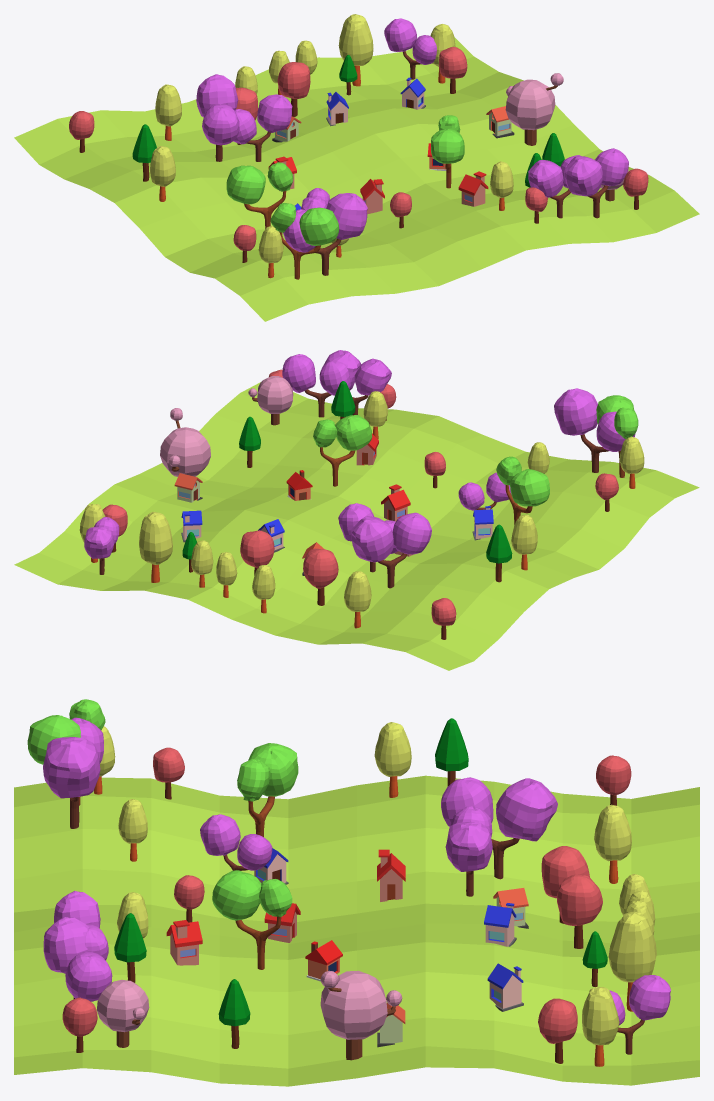
File: Scene_Examples.glb
The picture shows the model from 3 angles, top to bottom: view 1: azimuth 30°, elevation 25°; view 2: azimuth 150°, elevation 25°; view 3: azimuth 270°, elevation 25°; orthographic projection. The views are drawn at different scales.
Parts seen in each view (by area): view 1: my_plane.036, Cube.016, Cube.032, Cube.037, Cube.012, Cube.013, Cube.011, Cube.018, Cube.034, Cube.030, Cube.025, Cube.031 (+20 smaller); view 2: my_plane.036, Cube.016, Cube.012, Cube.037, Cube.013, Cube.025, Cube.031, Cube.032, Cube.030, Cube.035, Cube.019, Cube.011 (+24 smaller); view 3: my_plane.036, Cube.016, Cube.037, Cube.012, Cube.032, Cube.025, Cube.013, Cube.030, Cube.018, Cube.017, Cube.035, Cube.034 (+29 smaller).
Part boxes in pixels (<box>): my_plane.036: <box>14,37,699,321</box>; Cube.016: <box>196,74,239,161</box>; Cube.032: <box>565,148,628,218</box>; Cube.037: <box>505,73,563,145</box>; Cube.012: <box>283,193,367,275</box>; Cube.013: <box>226,162,293,228</box>; Cube.011: <box>270,203,339,279</box>; Cube.018: <box>233,94,292,161</box>; Cube.034: <box>384,18,436,79</box>; Cube.030: <box>338,14,373,86</box>; Cube.025: <box>431,115,464,188</box>; Cube.031: <box>528,155,580,218</box>; my_plane.036: <box>14,382,699,670</box>; Cube.016: <box>351,512,431,588</box>; Cube.012: <box>554,388,635,472</box>; Cube.037: <box>160,408,210,476</box>; Cube.013: <box>496,456,549,524</box>; Cube.025: <box>313,415,372,486</box>; Cube.031: <box>319,358,391,415</box>; Cube.032: <box>282,350,361,417</box>; Cube.030: <box>139,511,172,582</box>; Cube.035: <box>248,376,293,425</box>; Cube.019: <box>303,548,338,605</box>; Cube.011: <box>596,395,638,477</box>; my_plane.036: <box>14,775,699,1086</box>; Cube.016: <box>441,777,557,879</box>; Cube.037: <box>320,970,402,1060</box>; Cube.012: <box>43,717,103,828</box>; Cube.032: <box>43,917,112,1001</box>; Cube.025: <box>212,870,292,969</box>; Cube.013: <box>237,743,298,836</box>; Cube.030: <box>608,911,656,1011</box>; Cube.018: <box>445,806,492,896</box>; Cube.017: <box>200,814,272,870</box>; Cube.035: <box>97,979,149,1047</box>; Cube.034: <box>609,975,670,1054</box>.
Size of the model in its own units: 60 by 13.84 by 60.
